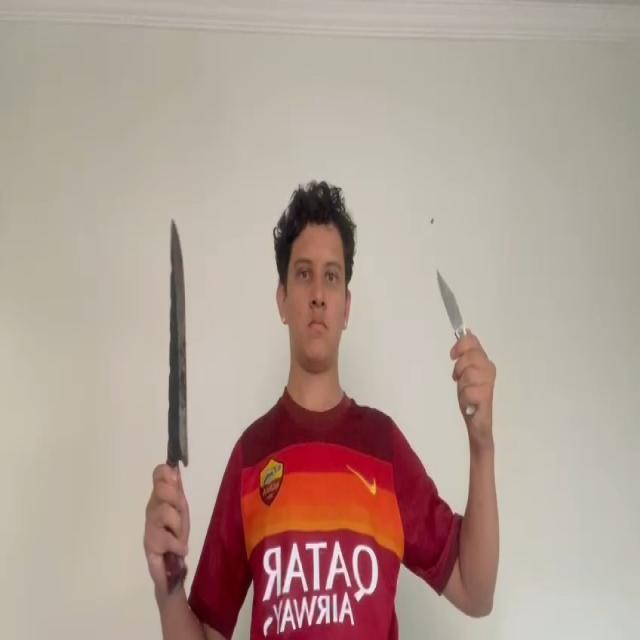knife: (168, 220, 188, 464), (436, 264, 461, 336)
